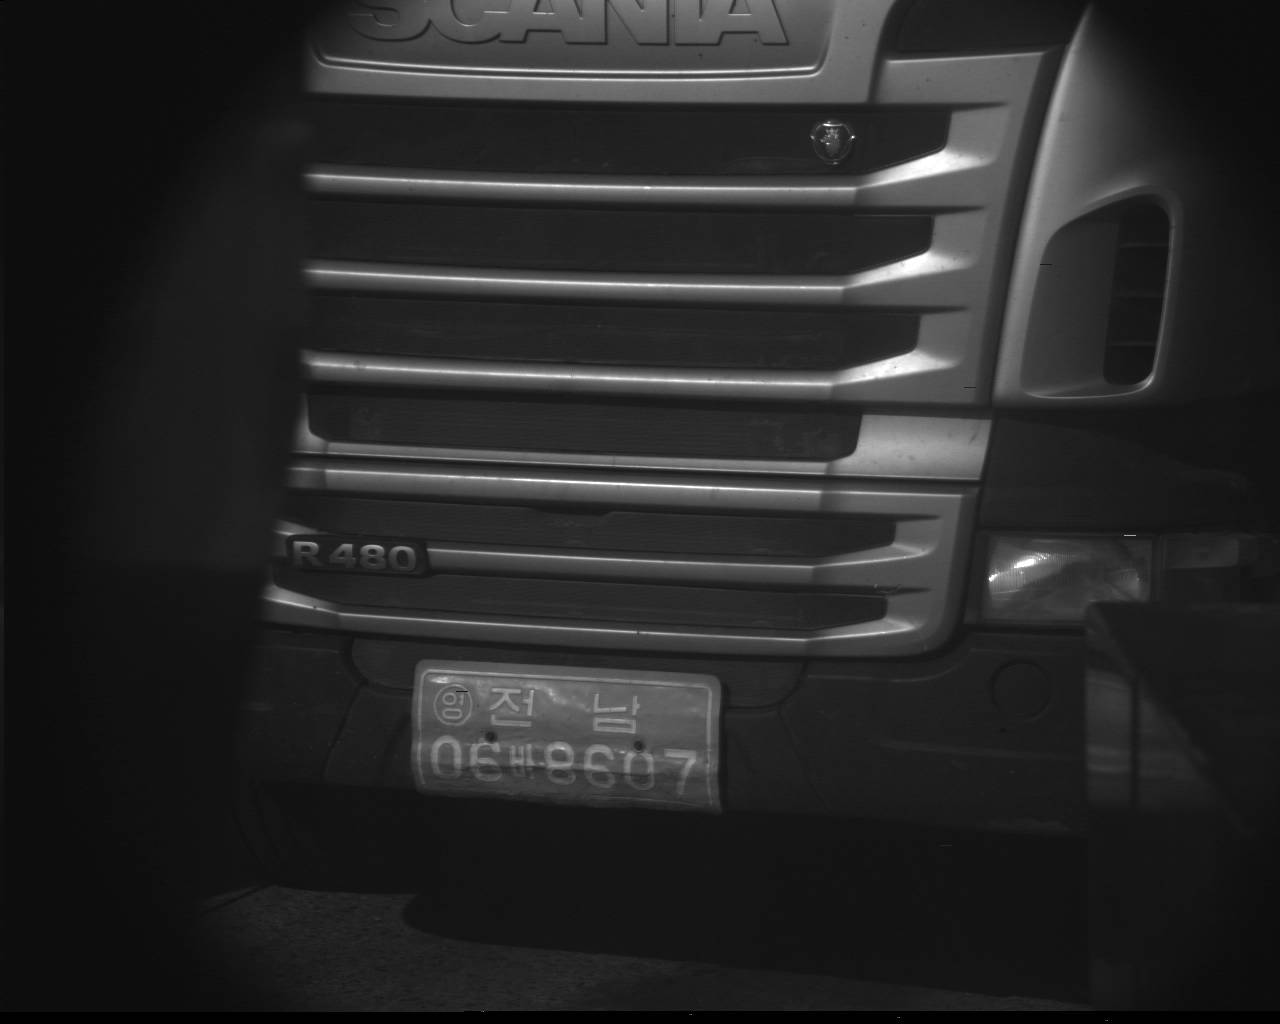car: (1, 1, 1277, 879)
plate: (409, 657, 726, 817)
